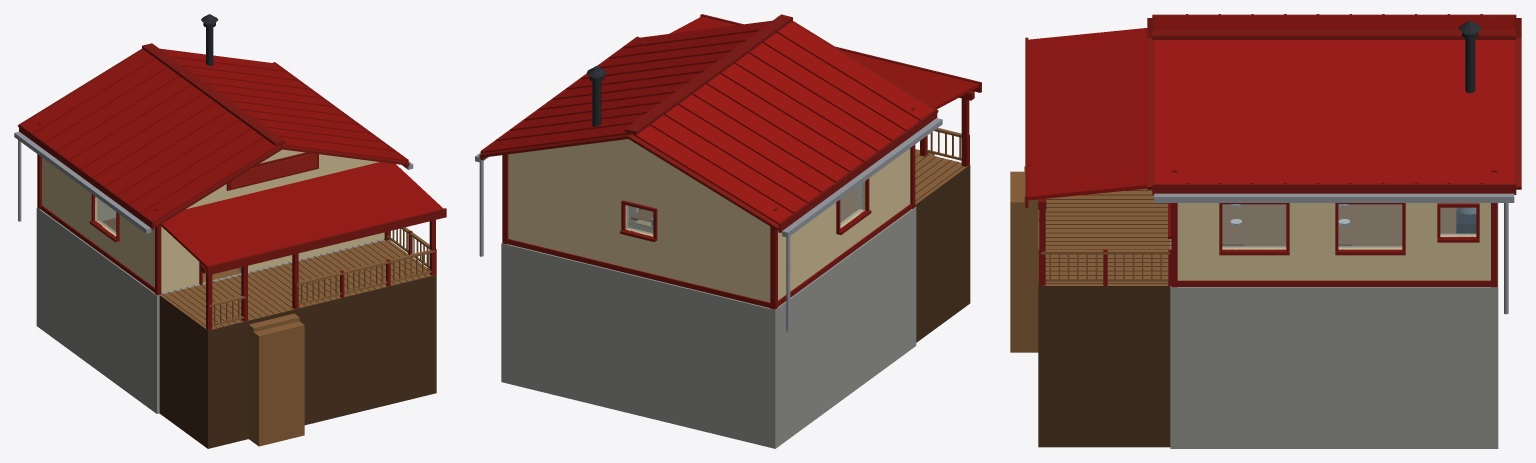
File: SM_Slifer_Dining.fbx
3 views of the same model, side by side, from view 1: azimuth 30°, elevation 25°; view 2: azimuth 150°, elevation 25°; view 3: azimuth 270°, elevation 25° (orthographic). The views are drawn at different scales.
Parts seen in each view (by area): view 1: SM_Slifer_Dining; view 2: SM_Slifer_Dining; view 3: SM_Slifer_Dining.
Boxes of the visible parts, x1,y1,x2,y2 form: SM_Slifer_Dining: (14, 14, 446, 448); SM_Slifer_Dining: (475, 14, 981, 448); SM_Slifer_Dining: (1010, 14, 1521, 448).
Bounding box in the file's own units: 10.5 × 10.52 × 12.78.
